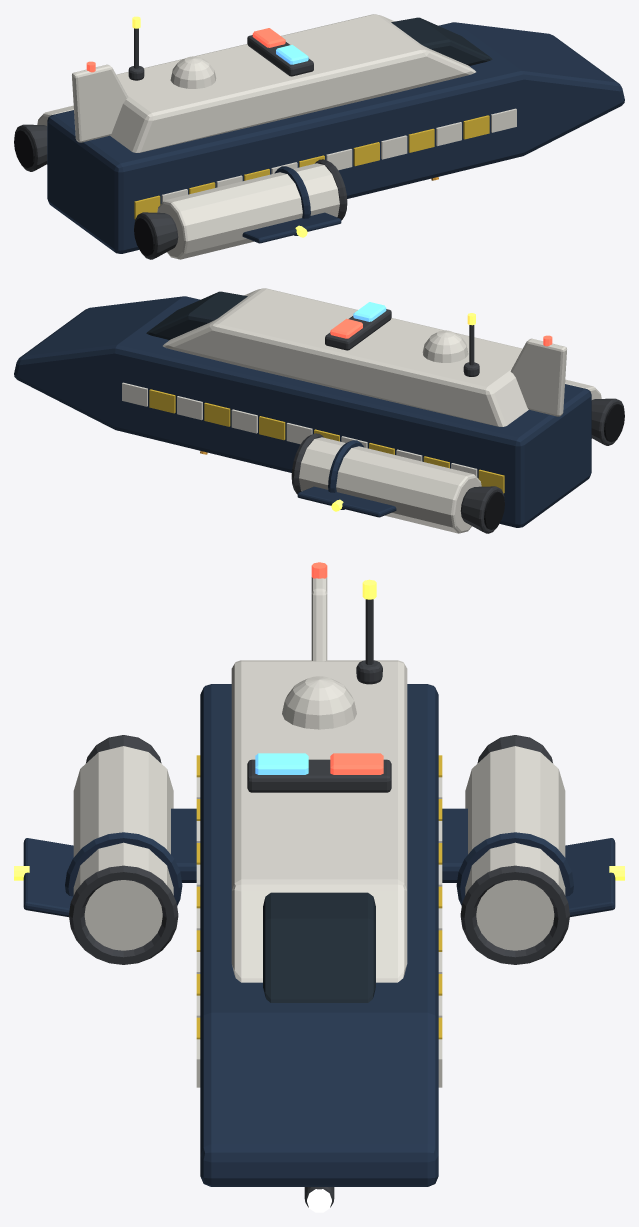
The model's file is patrol-cutter.glb.
3 views of the same model, one above another, from view 1: azimuth 30°, elevation 25°; view 2: azimuth 150°, elevation 25°; view 3: azimuth 270°, elevation 25° (orthographic). The views are drawn at different scales.
Parts seen in each view (by area): view 1: hull body, drive body, lightbar, lightbar red, lightbar blue; view 2: hull body, drive body, lightbar, lightbar blue, lightbar red; view 3: hull body, drive body, lightbar, lightbar blue, lightbar red.
Part boxes in pixels (left/top/right/bottom): hull body: left=47, top=14, right=624, bottom=253; drive body: left=14, top=105, right=347, bottom=259; lightbar: left=247, top=35, right=313, bottom=76; lightbar red: left=252, top=28, right=285, bottom=47; lightbar blue: left=276, top=44, right=308, bottom=64; hull body: left=14, top=288, right=591, bottom=527; drive body: left=291, top=379, right=624, bottom=533; lightbar: left=325, top=309, right=391, bottom=350; lightbar blue: left=353, top=302, right=386, bottom=321; lightbar red: left=330, top=318, right=362, bottom=338; hull body: left=23, top=577, right=615, bottom=1212; drive body: left=65, top=735, right=573, bottom=964; lightbar: left=247, top=759, right=391, bottom=792; lightbar blue: left=255, top=753, right=308, bottom=774; lightbar red: left=330, top=753, right=383, bottom=774.
Bounding box in the file's own units: 6.23 × 2.43 × 3.9.
